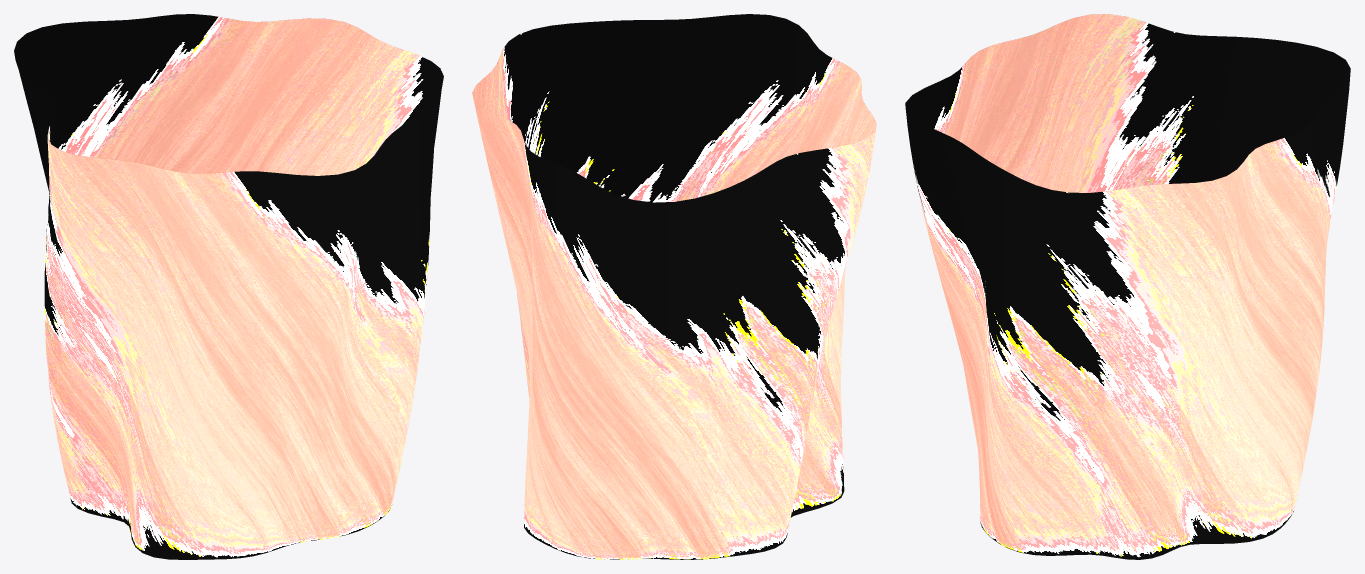
The model's file is devil_mid_3.glb.
3 renders of one model, left to right at view 1: azimuth 30°, elevation 25°; view 2: azimuth 150°, elevation 25°; view 3: azimuth 270°, elevation 25°, orthographic.
Parts seen in each view (by area): view 1: devil_mid_3; view 2: devil_mid_3; view 3: devil_mid_3.
Part boxes in pixels (box(x1,y1,x2,y2)): devil_mid_3: box(14, 14, 443, 559); devil_mid_3: box(472, 14, 876, 559); devil_mid_3: box(905, 14, 1350, 559).
Size of the model in its own units: 12.81 by 13.2 by 13.48.
Materials: 1 (1 with a texture image).
